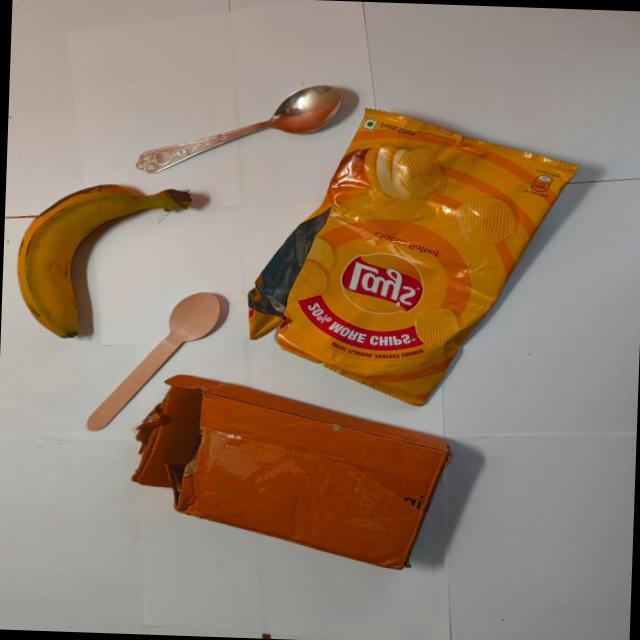Banana-Bio: (11, 178, 196, 346)
CardBoard-Bio: (125, 372, 458, 574)
Plastic-NonBio: (240, 101, 584, 413)
Steel-NonBio: (133, 75, 362, 184)
Wooden Spoon-Bio: (82, 284, 225, 437)
